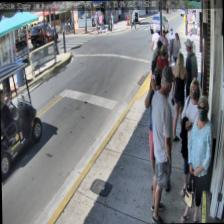person: (177, 94, 214, 222), (148, 64, 176, 222), (143, 66, 170, 190), (178, 78, 205, 196)
